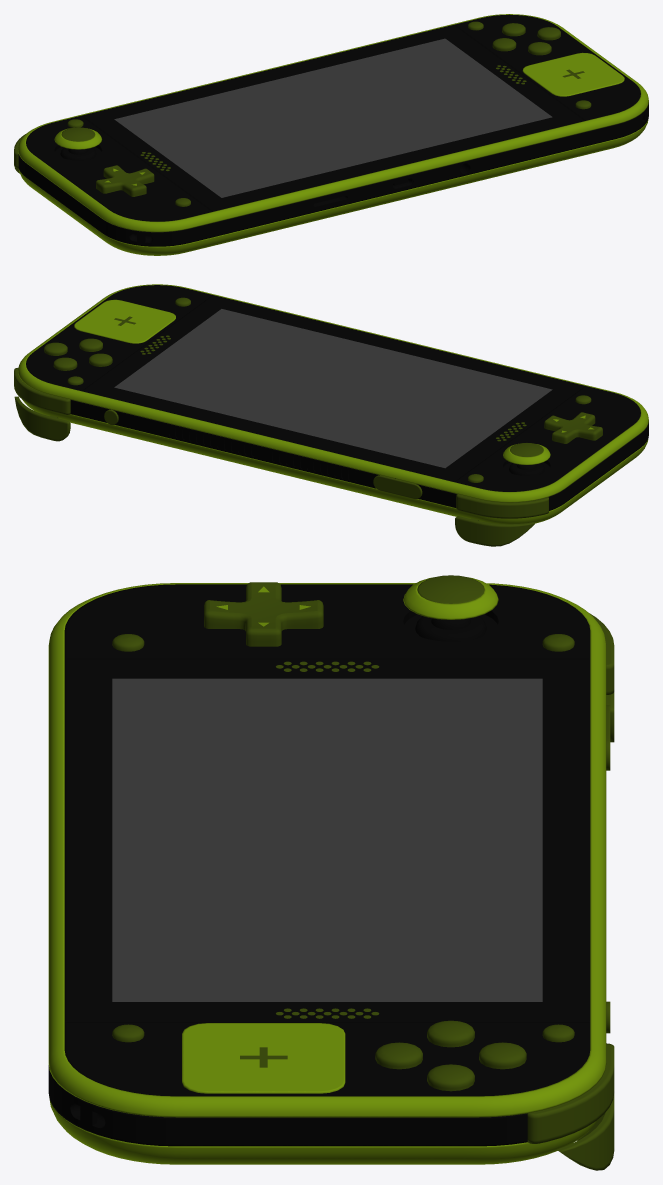
Rendered from legameconsole.fbx.
3 views of the same model, one above another, from view 1: azimuth 30°, elevation 25°; view 2: azimuth 150°, elevation 25°; view 3: azimuth 270°, elevation 25° (orthographic). The views are drawn at different scales.
Visible parts, largest first — view 1: Screen, Console top, Case detail, Console bottom, D Pad, ABXY, Joystick; view 2: Screen, Console top, Case detail, Console bottom, Triggers, D Pad, ABXY, Power/Volume button, Joystick; view 3: Screen, Console top, Case detail, Console bottom, Triggers, D Pad, ABXY, Joystick, Speakers.
Boxes of the visible parts, x1=… form: Screen: x1=82, y1=25, x2=584, y2=211; Console top: x1=26, y1=14, x2=640, y2=221; Case detail: x1=18, y1=14, x2=648, y2=255; Console bottom: x1=18, y1=102, x2=648, y2=246; D Pad: x1=96, y1=165, x2=154, y2=196; ABXY: x1=492, y1=23, x2=560, y2=55; Joystick: x1=61, y1=127, x2=94, y2=141; Screen: x1=82, y1=295, x2=584, y2=481; Console top: x1=26, y1=285, x2=640, y2=491; Case detail: x1=18, y1=284, x2=648, y2=524; Console bottom: x1=70, y1=400, x2=648, y2=510; Triggers: x1=14, y1=367, x2=548, y2=546; D Pad: x1=544, y1=412, x2=602, y2=443; ABXY: x1=44, y1=338, x2=112, y2=370; Power/Volume button: x1=104, y1=409, x2=422, y2=498; Joystick: x1=510, y1=442, x2=543, y2=456; Screen: x1=64, y1=658, x2=590, y2=1022; Console top: x1=64, y1=577, x2=590, y2=1096; Case detail: x1=48, y1=583, x2=606, y2=1164; Console bottom: x1=48, y1=1065, x2=527, y2=1146; Triggers: x1=527, y1=613, x2=614, y2=1170; D Pad: x1=204, y1=582, x2=323, y2=646; ABXY: x1=375, y1=1020, x2=526, y2=1091; Joystick: x1=417, y1=575, x2=484, y2=603; Speakers: x1=275, y1=661, x2=379, y2=1018.
Bounding box in the file's own units: 325 × 39.58 × 148.
